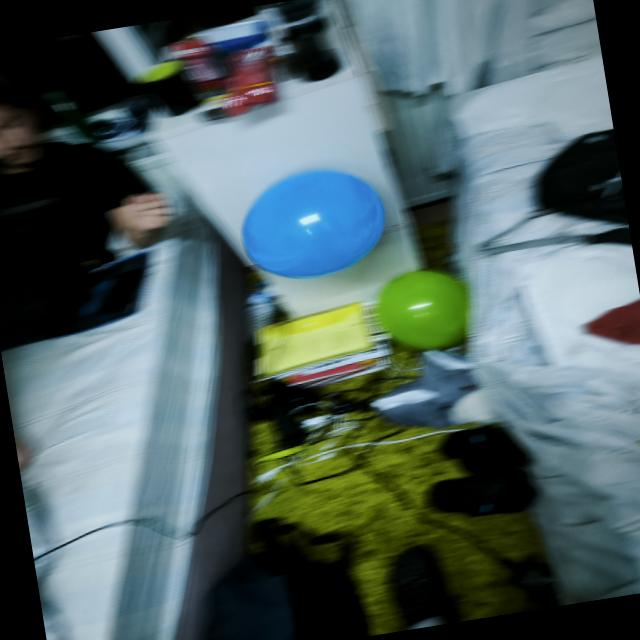balloon: (242, 170, 385, 279), (378, 270, 469, 351)
